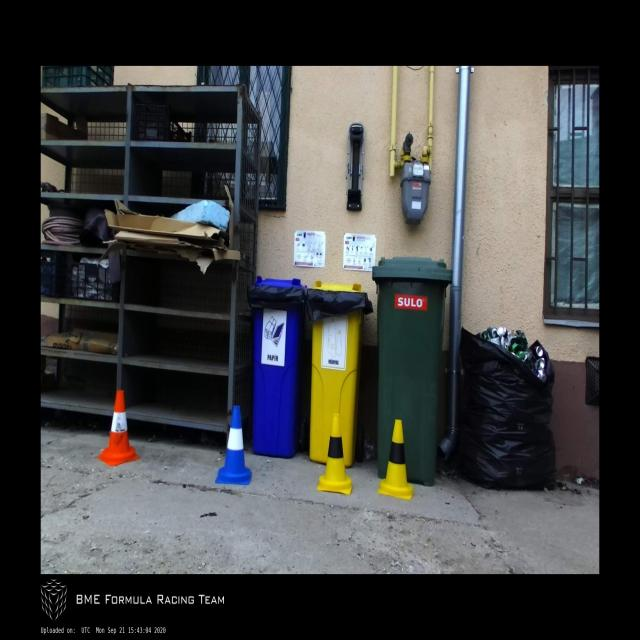blue_cone: (215, 406, 252, 485)
orange_cone: (97, 389, 140, 466)
yellow_cone: (317, 414, 353, 495), (378, 420, 414, 500)
